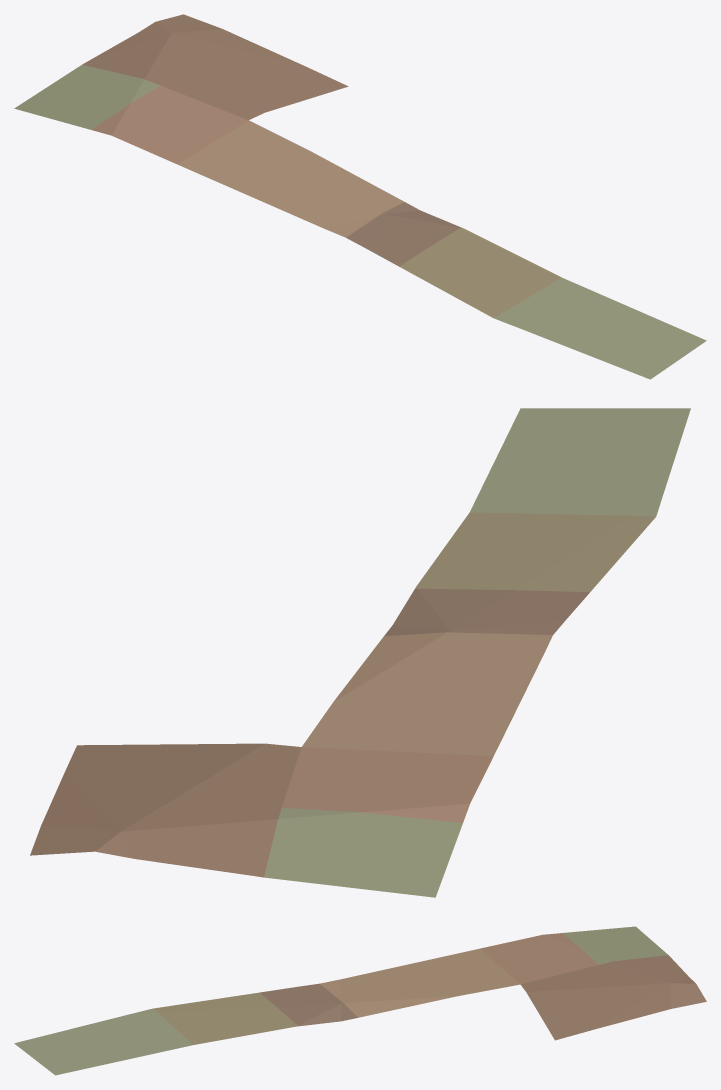
The model's file is farm_-16_-26_soil.glb.
3 views of the same model, one above another, from view 1: azimuth 30°, elevation 25°; view 2: azimuth 150°, elevation 25°; view 3: azimuth 270°, elevation 25° (orthographic). The views are drawn at different scales.
Parts seen in each view (by area): view 1: geometry_0; view 2: geometry_0; view 3: geometry_0.
Boxes of the visible parts, box(x1,y1,x2,y2) form: geometry_0: box(14, 14, 706, 379); geometry_0: box(30, 408, 690, 897); geometry_0: box(14, 926, 706, 1075).
Size of the model in its own units: 69.52 by 10.66 by 168.
